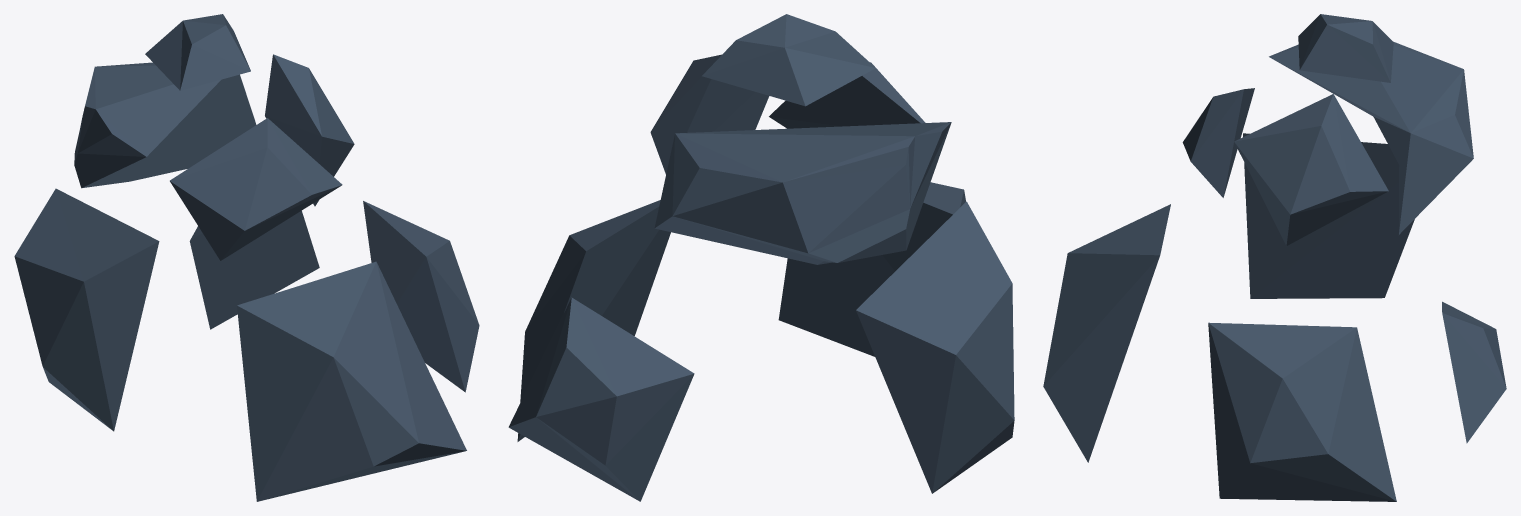
The model's file is IronOreC.fbx.
3 views of the same model, side by side, from view 1: azimuth 30°, elevation 25°; view 2: azimuth 150°, elevation 25°; view 3: azimuth 270°, elevation 25° (orthographic). The views are drawn at different scales.
Parts seen in each view (by area): view 1: IronOreC; view 2: IronOreC; view 3: IronOreC.
Boxes of the visible parts, left/top/right/bottom form: IronOreC: left=14, top=14, right=479, bottom=501; IronOreC: left=508, top=14, right=1014, bottom=501; IronOreC: left=1043, top=14, right=1506, bottom=501.
Size of the model in its own units: 44.26 by 40.19 by 43.3.
